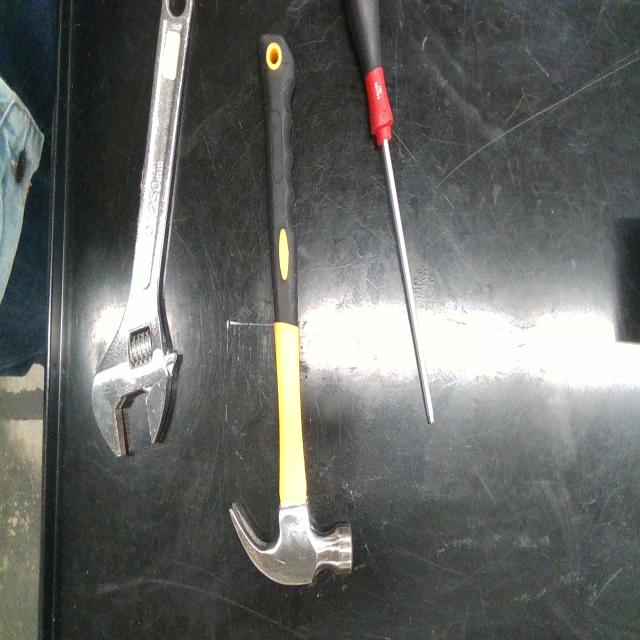Screwdriver: (346, 0, 434, 424)
